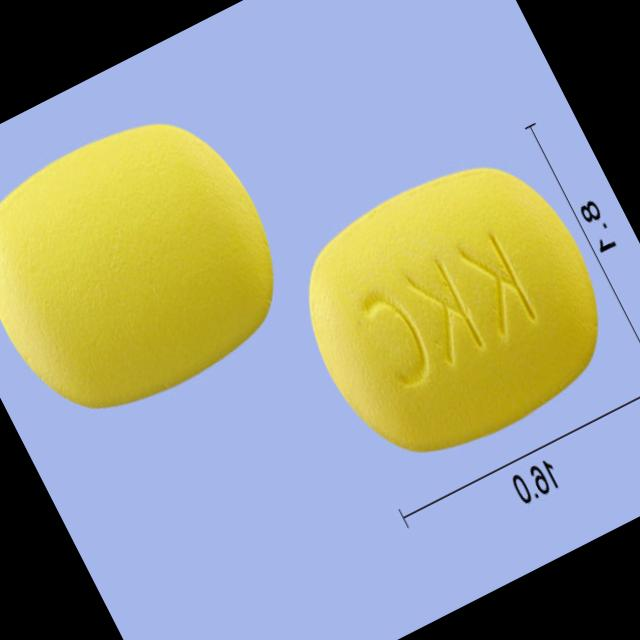Carbastar: (272, 134, 636, 490), (0, 90, 310, 442)
